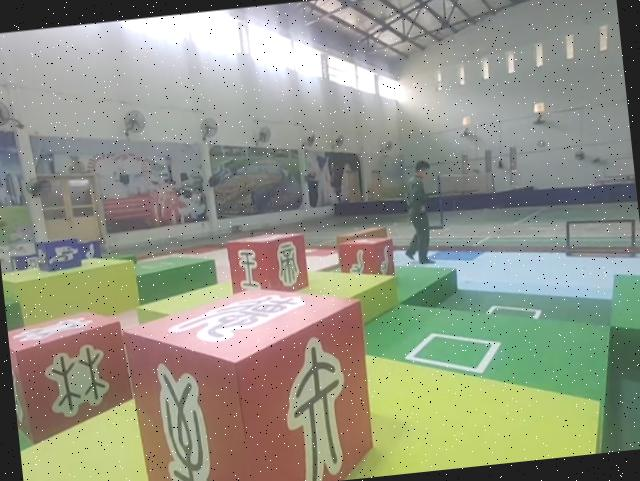R2 Fake: (114, 272, 381, 481), (227, 227, 314, 299)
R2 Real: (6, 302, 138, 446), (336, 231, 399, 284)
